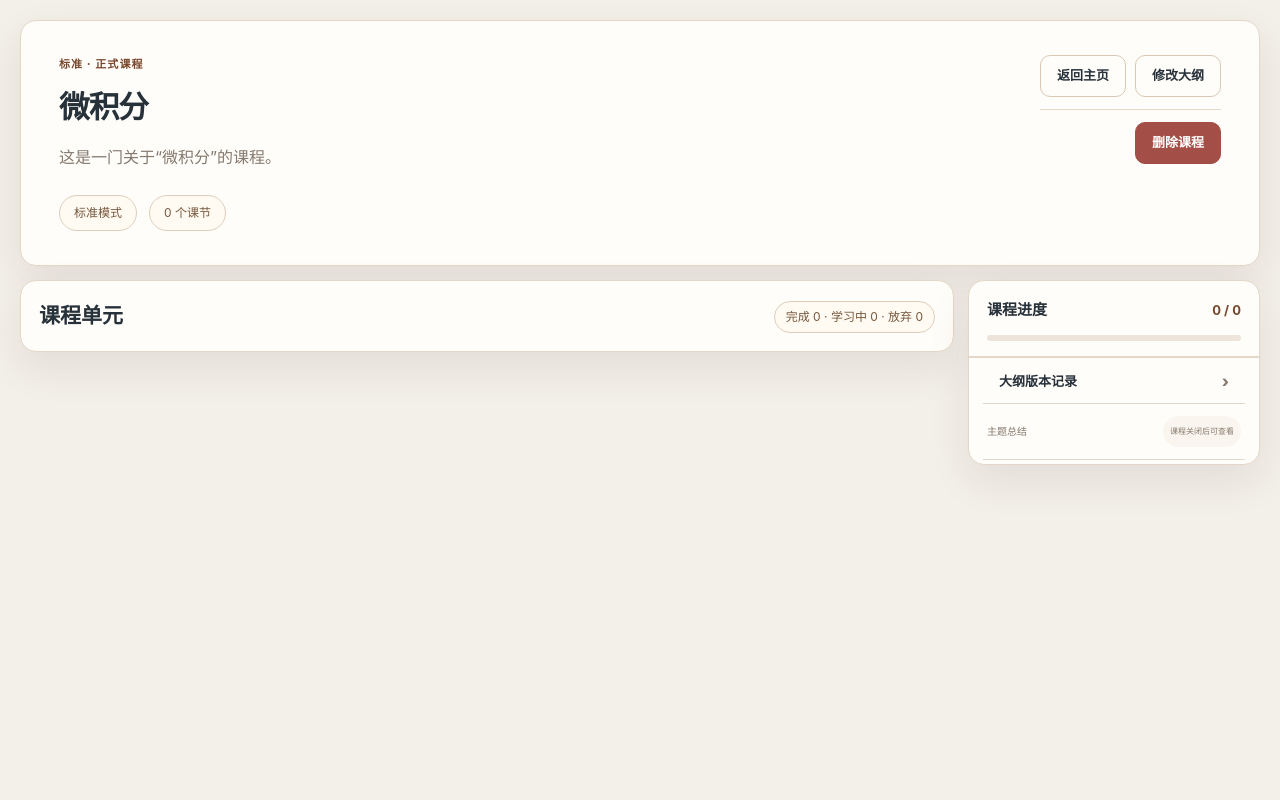
Scenario: FormalCourseView outline history › keeps a previous outline version readable as full Markdown after a later version is current
The width and height of the screenshot is (1280, 800).
Click the button "大纲版本记录" at (1038, 381), box 983,362 -> 1245,404
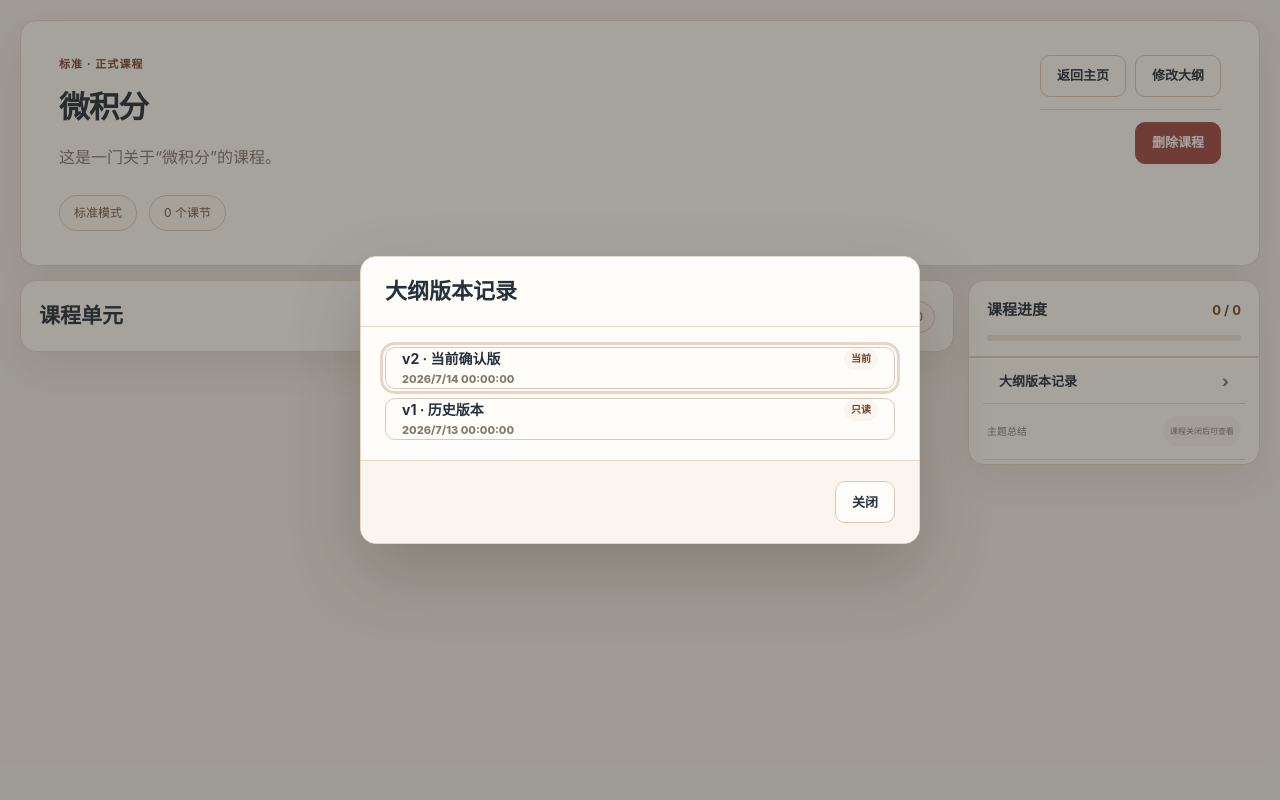
Click the list item "v1 · 历史版本" at (443, 409), box 385,398 -> 895,440
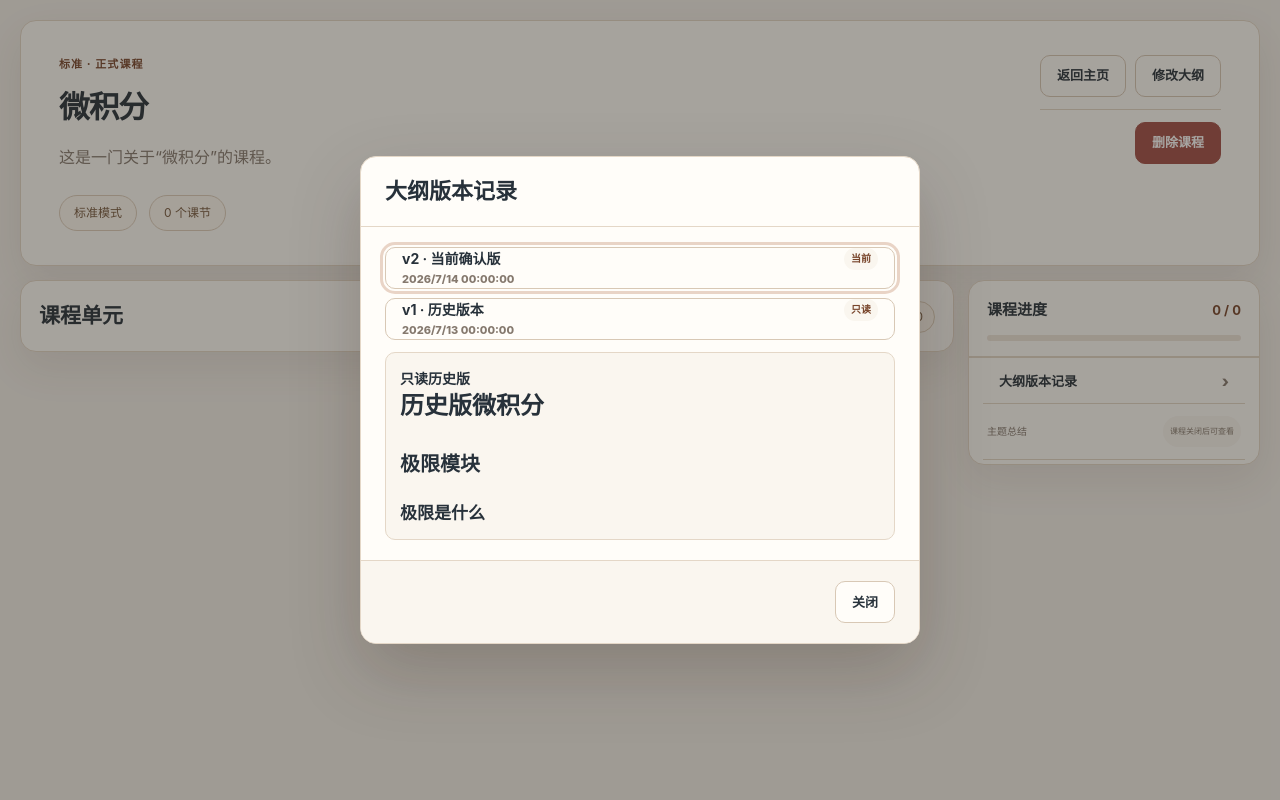
Expected: the heading "历史版微积分" is shown, 400,391 -> 544,420
Expected: the heading "极限模块" is shown, 400,452 -> 480,476
